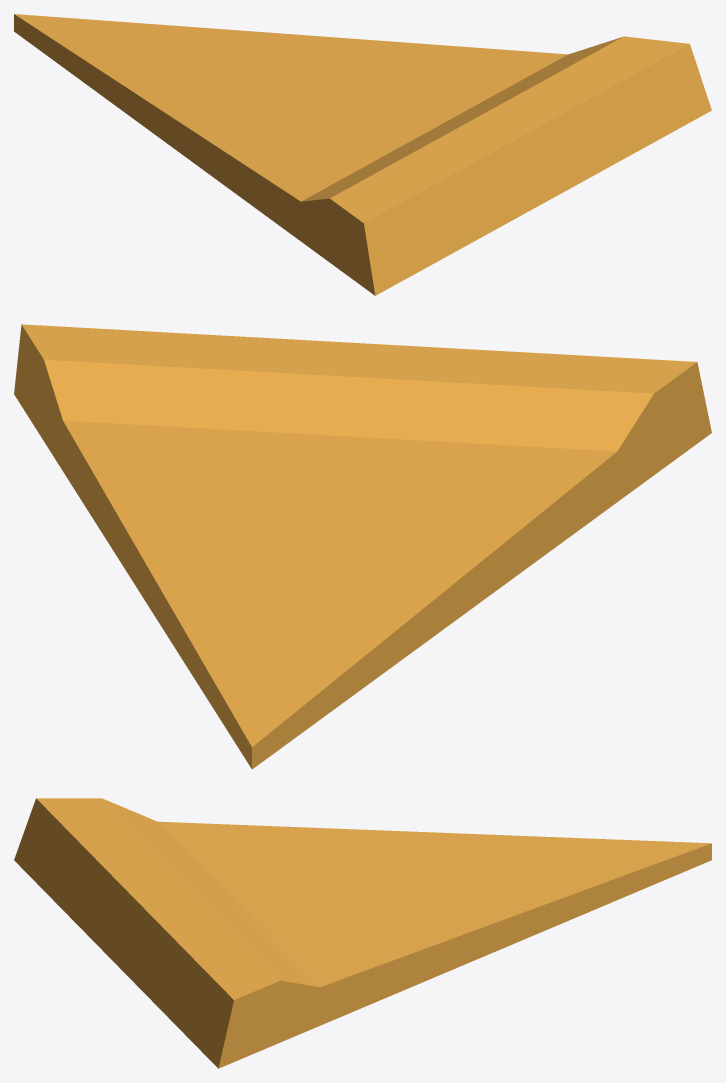
The model's file is q-pizza.glb.
3 renders of one model, top to bottom at view 1: azimuth 30°, elevation 25°; view 2: azimuth 150°, elevation 25°; view 3: azimuth 270°, elevation 25°, orthographic. The views are drawn at different scales.
Visible parts, largest first — view 1: Pizza; view 2: Pizza; view 3: Pizza.
Boxes of the visible parts, <box> form: Pizza: <box>14,14,711,295</box>; Pizza: <box>14,324,711,769</box>; Pizza: <box>14,798,711,1068</box>.
Bounding box in the file's own units: 0.7071 × 0.098 × 1.
